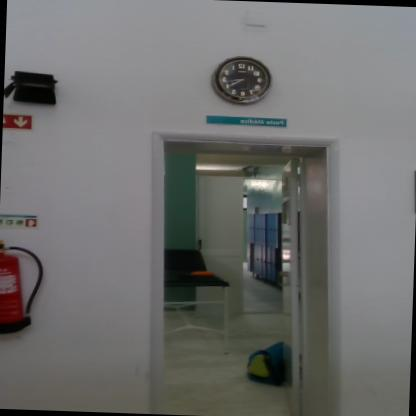open: (127, 125, 334, 416)
